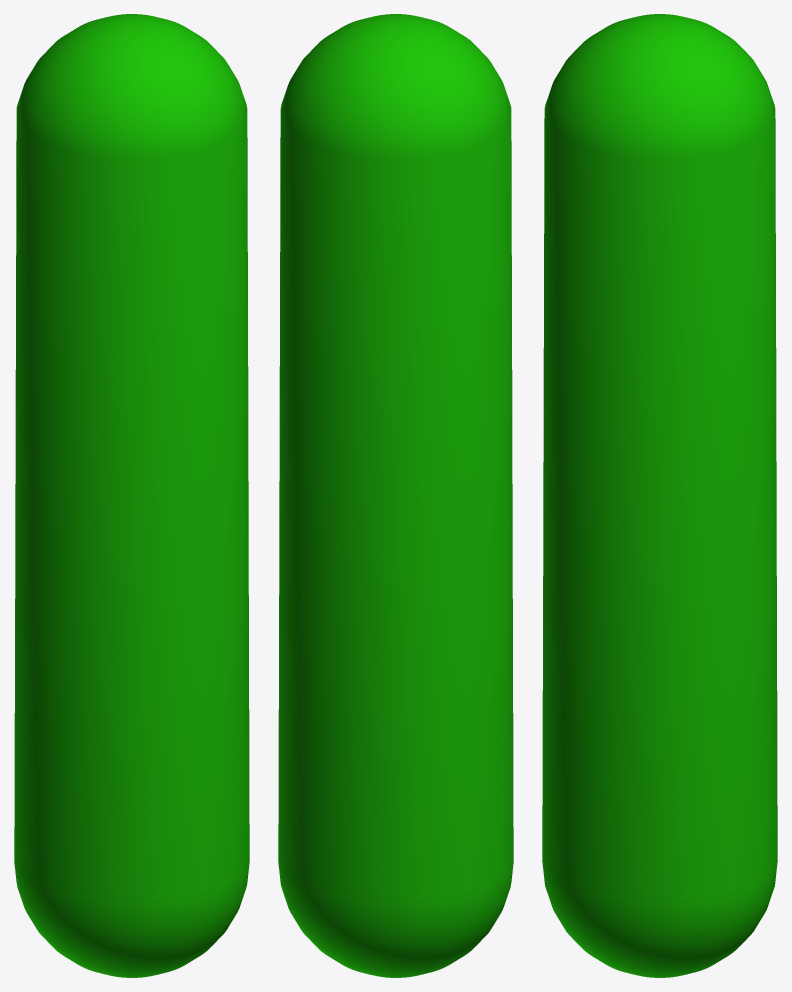
File: AndroidLegRight.fbx
3 renders of one model, left to right at view 1: azimuth 30°, elevation 25°; view 2: azimuth 150°, elevation 25°; view 3: azimuth 270°, elevation 25°, orthographic.
Visible parts, largest first — view 1: AndroidLegRight; view 2: AndroidLegRight; view 3: AndroidLegRight.
Boxes of the visible parts, left/top/right/bottom form: AndroidLegRight: left=14, top=14, right=249, bottom=977; AndroidLegRight: left=278, top=14, right=513, bottom=977; AndroidLegRight: left=542, top=14, right=777, bottom=977.
Size of the model in its own units: 15.32 by 67.62 by 15.32.
1 material, 1 textured.
